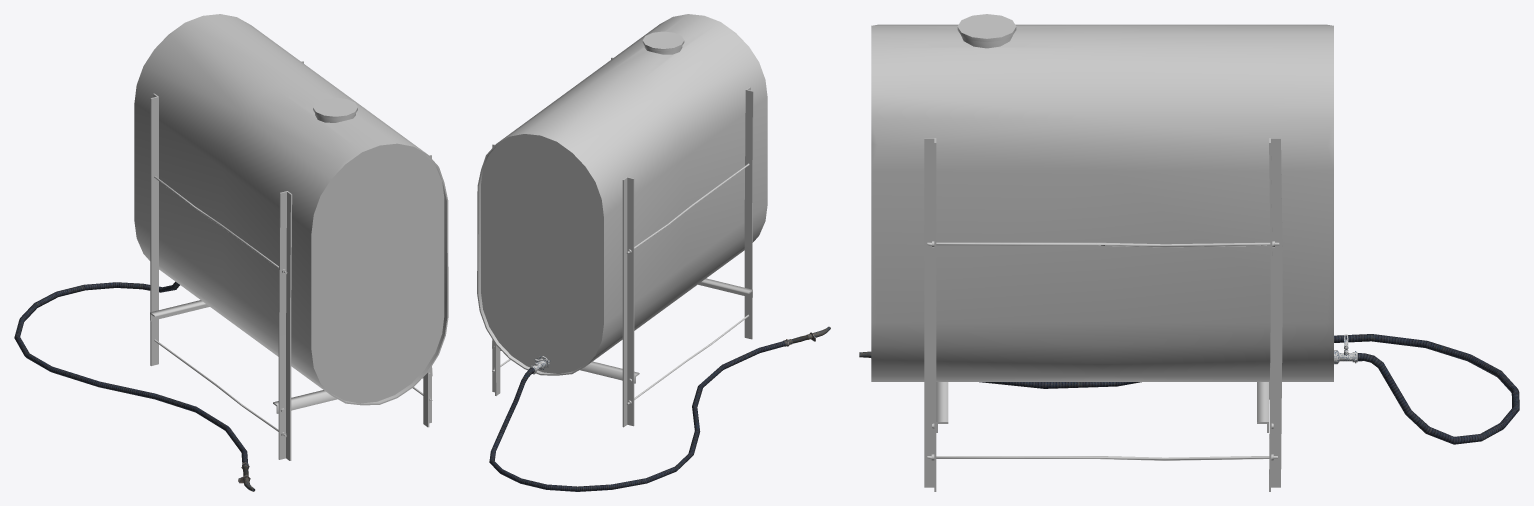
The picture shows the model from 3 angles, left to right: view 1: azimuth 30°, elevation 25°; view 2: azimuth 150°, elevation 25°; view 3: azimuth 270°, elevation 25°; orthographic projection. The views are drawn at different scales.
Visible parts, largest first — view 1: oil_back1, oil_back_slang1; view 2: oil_back1, oil_back_slang1; view 3: oil_back1, oil_back_slang1.
Part boxes in pixels (<box>): oil_back1: <box>134,14,448,460</box>; oil_back_slang1: <box>14,281,255,491</box>; oil_back1: <box>477,14,767,427</box>; oil_back_slang1: <box>489,326,830,491</box>; oil_back1: <box>871,14,1357,491</box>; oil_back_slang1: <box>859,334,1519,444</box>.
Bounding box in the file's own units: 2.58 × 3.27 × 4.69.
